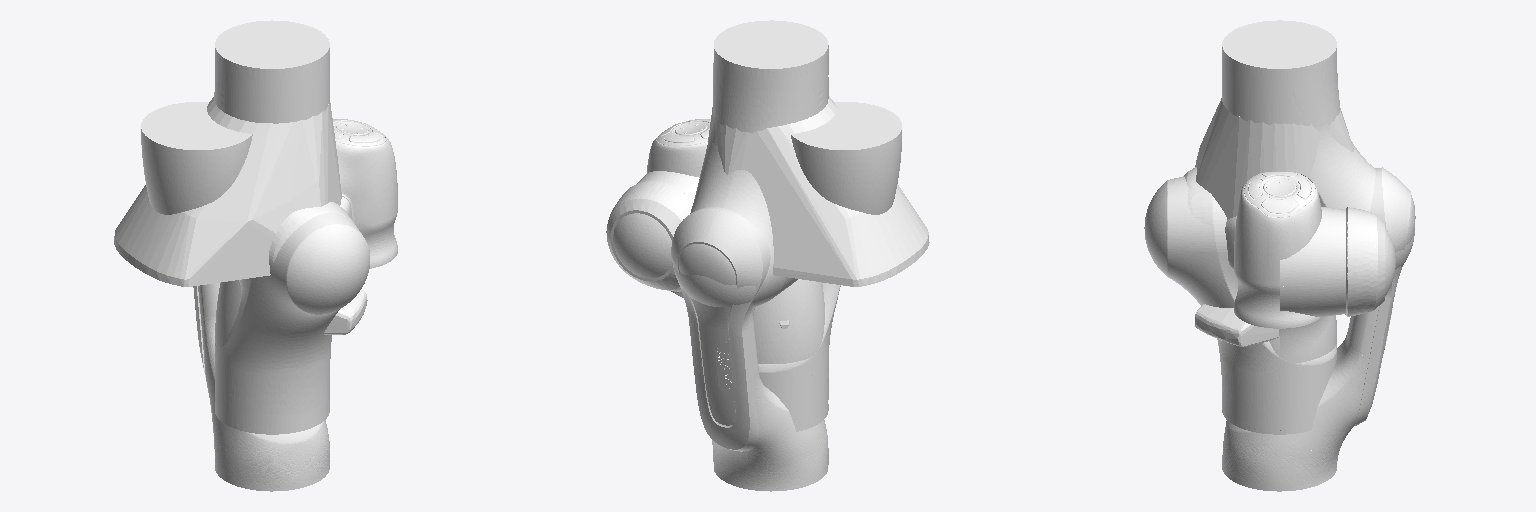
URDF robot description (panda):
<?xml version="1.0" ?>
<!-- =================================================================================== -->
<!-- |    This document was autogenerated by xacro from panda_arm_hand.urdf.xacro      | -->
<!-- |    EDITING THIS FILE BY HAND IS NOT RECOMMENDED                                 | -->
<!-- =================================================================================== -->
<robot name="panda" xmlns:xacro="http://www.ros.org/wiki/xacro">
  <link name="panda_link0">
  	<inertial>
      <origin rpy="0 0 0" xyz="0 0 0.05"/>
       <mass value="2.9"/>
       <inertia ixx="0.1" ixy="0" ixz="0" iyy="0.1" iyz="0" izz="0.1"/>
    </inertial>
    <visual>
      <geometry>
        <mesh filename="collision/link0.obj"/>
      </geometry>
      <material name="panda_white">
    		<color rgba="1. 1. 1. 1."/>
  		</material>
    </visual>
    <collision>
      <geometry>
        <mesh filename="collision/link0.obj"/>
      </geometry>
      <material name="panda_white"/>
    </collision>
  </link>
  <link name="panda_link1">
  	<inertial>
      <origin rpy="0 0 0" xyz="0 -0.04 -0.05"/>
       <mass value="2.7"/>
       <inertia ixx="0.1" ixy="0" ixz="0" iyy="0.1" iyz="0" izz="0.1"/>
    </inertial>
    <visual>
      <geometry>
        <mesh filename="visual/link1.obj"/>
      </geometry>
      <material name="panda_white"/>
    </visual>
    <collision>
      <geometry>
        <mesh filename="collision/link1.obj"/>
      </geometry>
      <material name="panda_white"/>
    </collision>
  </link>
  <joint name="panda_joint1" type="revolute">
    <safety_controller k_position="100.0" k_velocity="40.0" soft_lower_limit="-2.8973" soft_upper_limit="2.8973"/>
    <origin rpy="0 0 0" xyz="0 0 0.333"/>
    <parent link="panda_link0"/>
    <child link="panda_link1"/>
    <axis xyz="0 0 1"/>
    <limit effort="87" lower="-2.9671" upper="2.9671" velocity="2.1750"/>
  </joint>
  <link name="panda_link2">
  	<inertial>
      <origin rpy="0 0 0" xyz="0 -0.04 0.06"/>
       <mass value="2.73"/>
       <inertia ixx="0.1" ixy="0" ixz="0" iyy="0.1" iyz="0" izz="0.1"/>
    </inertial>
    <visual>
      <geometry>
        <mesh filename="visual/link2.obj"/>
      </geometry>
      <material name="panda_white"/>
    </visual>
    <collision>
      <geometry>
        <mesh filename="collision/link2.obj"/>
      </geometry>
      <material name="panda_white"/>
    </collision>
  </link>
  <joint name="panda_joint2" type="revolute">
    <safety_controller k_position="100.0" k_velocity="40.0" soft_lower_limit="-1.7628" soft_upper_limit="1.7628"/>
    <origin rpy="-1.57079632679 0 0" xyz="0 0 0"/>
    <parent link="panda_link1"/>
    <child link="panda_link2"/>
    <axis xyz="0 0 1"/>
    <limit effort="87" lower="-1.8326" upper="1.8326" velocity="2.1750"/>
  </joint>
  <link name="panda_link3">
	  <inertial>
      <origin rpy="0 0 0" xyz="0.01 0.01 -0.05"/>
       <mass value="2.04"/>
       <inertia ixx="0.1" ixy="0" ixz="0" iyy="0.1" iyz="0" izz="0.1"/>
    </inertial>
    <visual>
      <geometry>
        <mesh filename="visual/link3.obj"/>
      </geometry>
      <material name="panda_red">
    		<color rgba="1. 1. 1. 1."/>
  		</material>
    </visual>
    <collision>
      <geometry>
        <mesh filename="collision/link3.obj"/>
      </geometry>
    </collision>
  </link>
  <joint name="panda_joint3" type="revolute">
    <safety_controller k_position="100.0" k_velocity="40.0" soft_lower_limit="-2.8973" soft_upper_limit="2.8973"/>
    <origin rpy="1.57079632679 0 0" xyz="0 -0.316 0"/>
    <parent link="panda_link2"/>
    <child link="panda_link3"/>
    <axis xyz="0 0 1"/>
    <limit effort="87" lower="-2.9671" upper="2.9671" velocity="2.1750"/>
  </joint>
  <link name="panda_link4">
  	<inertial>
      <origin rpy="0 0 0" xyz="-0.03 0.03 0.02"/>
       <mass value="2.08"/>
       <inertia ixx="0.1" ixy="0" ixz="0" iyy="0.1" iyz="0" izz="0.1"/>
    </inertial>
    <visual>
      <geometry>
        <mesh filename="visual/link4.obj"/>
      </geometry>
      <material name="panda_white"/>
    </visual>
    <collision>
      <geometry>
        <mesh filename="collision/link4.obj"/>
      </geometry>
      <material name="panda_white"/>
    </collision>
  </link>
  <joint name="panda_joint4" type="revolute">
    <safety_controller k_position="100.0" k_velocity="40.0" soft_lower_limit="-3.0718" soft_upper_limit="-0.0698"/>
    <origin rpy="1.57079632679 0 0" xyz="0.0825 0 0"/>
    <parent link="panda_link3"/>
    <child link="panda_link4"/>
    <axis xyz="0 0 1"/>
    <limit effort="87" lower="-3.1416" upper="0.0" velocity="2.1750"/>
  </joint>
  <link name="panda_link5">
  	<inertial>
      <origin rpy="0 0 0" xyz="0 0.04 -0.12"/>
       <mass value="3"/>
       <inertia ixx="0.1" ixy="0" ixz="0" iyy="0.1" iyz="0" izz="0.1"/>
    </inertial>
    <visual>
      <geometry>
        <mesh filename="visual/link5.obj"/>
      </geometry>
      <material name="panda_white"/>
    </visual>
    <collision>
      <geometry>
        <mesh filename="collision/link5.obj"/>
      </geometry>
      <material name="panda_white"/>
    </collision>
  </link>
  <joint name="panda_joint5" type="revolute">
    <safety_controller k_position="100.0" k_velocity="40.0" soft_lower_limit="-2.8973" soft_upper_limit="2.8973"/>
    <origin rpy="-1.57079632679 0 0" xyz="-0.0825 0.384 0"/>
    <parent link="panda_link4"/>
    <child link="panda_link5"/>
    <axis xyz="0 0 1"/>
    <limit effort="12" lower="-2.9671" upper="2.9671" velocity="2.6100"/>
  </joint>
  <link name="panda_link6">
  	<inertial>
      <origin rpy="0 0 0" xyz="0.04 0 0"/>
       <mass value="1.3"/>
       <inertia ixx="0.1" ixy="0" ixz="0" iyy="0.1" iyz="0" izz="0.1"/>
    </inertial>
    <visual>
      <geometry>
        <mesh filename="visual/link6.obj"/>
      </geometry>
      <material name="panda_white"/>
    </visual>
    <collision>
      <geometry>
        <mesh filename="collision/link6.obj"/>
      </geometry>
      <material name="panda_white"/>
    </collision>
  </link>
  <joint name="panda_joint6" type="revolute">
    <safety_controller k_position="100.0" k_velocity="40.0" soft_lower_limit="-0.0175" soft_upper_limit="3.7525"/>
    <origin rpy="1.57079632679 0 0" xyz="0 0 0"/>
    <parent link="panda_link5"/>
    <child link="panda_link6"/>
    <axis xyz="0 0 1"/>
    <limit effort="12" lower="-0.0873" upper="3.8223" velocity="2.6100"/>
  </joint>
  <link name="panda_link7">
  	<inertial>
      <origin rpy="0 0 0" xyz="0 0 0.08"/>
       <mass value=".2"/>
       <inertia ixx="0.1" ixy="0" ixz="0" iyy="0.1" iyz="0" izz="0.1"/>
    </inertial>
    <visual>
      <geometry>
        <mesh filename="collision/link7.obj"/>
      </geometry>
      <material name="panda_white"/>
    </visual>
    <collision>
      <geometry>
        <mesh filename="collision/link7.obj"/>
      </geometry>
      <material name="panda_white"/>
    </collision>
  </link>
  <joint name="panda_joint7" type="revolute">
    <safety_controller k_position="100.0" k_velocity="40.0" soft_lower_limit="-2.8973" soft_upper_limit="2.8973"/>
    <origin rpy="1.57079632679 0 0" xyz="0.088 0 0"/>
    <parent link="panda_link6"/>
    <child link="panda_link7"/>
    <axis xyz="0 0 1"/>
    <limit effort="12" lower="-2.9671" upper="2.9671" velocity="2.6100"/>
  </joint>
  <link name="panda_link8">
  	 <inertial>
      <origin rpy="0 0 0" xyz="0 0 0"/>
       <mass value="0.0"/>
       <inertia ixx="0.1" ixy="0" ixz="0" iyy="0.1" iyz="0" izz="0.1"/>
    </inertial>
  </link>
  <joint name="panda_joint8" type="fixed">
    <origin rpy="0 0 0" xyz="0 0 0.107"/>
    <parent link="panda_link7"/>
    <child link="panda_link8"/>
    <axis xyz="0 0 0"/>
  </joint>

</robot>

--- Render facts (derived) ---
3 views of the same robot in one strip: view 1: azimuth 30°, elevation 25°; view 2: azimuth 150°, elevation 25°; view 3: azimuth 270°, elevation 25° (orthographic).
Robot: panda — 9 links, 8 joints (7 revolute, 1 fixed); root link panda_link0; default pose: every joint at zero.
Visible links, largest first — view 1: panda_link1, panda_link0, panda_link2, panda_link4, panda_link5, panda_link6, panda_link3, panda_link7; view 2: panda_link5, panda_link2, panda_link0, panda_link3, panda_link4, panda_link1, panda_link6; view 3: panda_link1, panda_link2, panda_link5, panda_link3, panda_link6, panda_link0, panda_link7, panda_link4.
Boxes of the visible links, box(x1,y1,x2,y2) form: panda_link1: box(215, 212, 369, 434); panda_link0: box(114, 97, 341, 286); panda_link2: box(214, 20, 329, 123); panda_link4: box(141, 102, 351, 266); panda_link5: box(193, 283, 329, 491); panda_link6: box(333, 119, 397, 268); panda_link3: box(215, 280, 241, 350); panda_link7: box(324, 289, 367, 334); panda_link5: box(671, 207, 828, 491); panda_link2: box(674, 20, 828, 306); panda_link0: box(708, 96, 929, 286); panda_link3: box(606, 171, 824, 363); panda_link4: box(791, 102, 901, 214); panda_link1: box(758, 283, 840, 431); panda_link6: box(647, 119, 710, 177); panda_link1: box(1144, 176, 1336, 434); panda_link2: box(1222, 20, 1414, 268); panda_link5: box(1222, 167, 1415, 491); panda_link3: box(1269, 207, 1395, 363); panda_link6: box(1225, 172, 1321, 328); panda_link0: box(1195, 98, 1353, 219); panda_link7: box(1195, 304, 1279, 346); panda_link4: box(1184, 167, 1211, 227).
Size in the robot's own frame: 29.16 by 25.93 by 44.6 metres.
Meshes: 8 distinct files referenced, 8 mesh visuals loaded (8 OBJ).